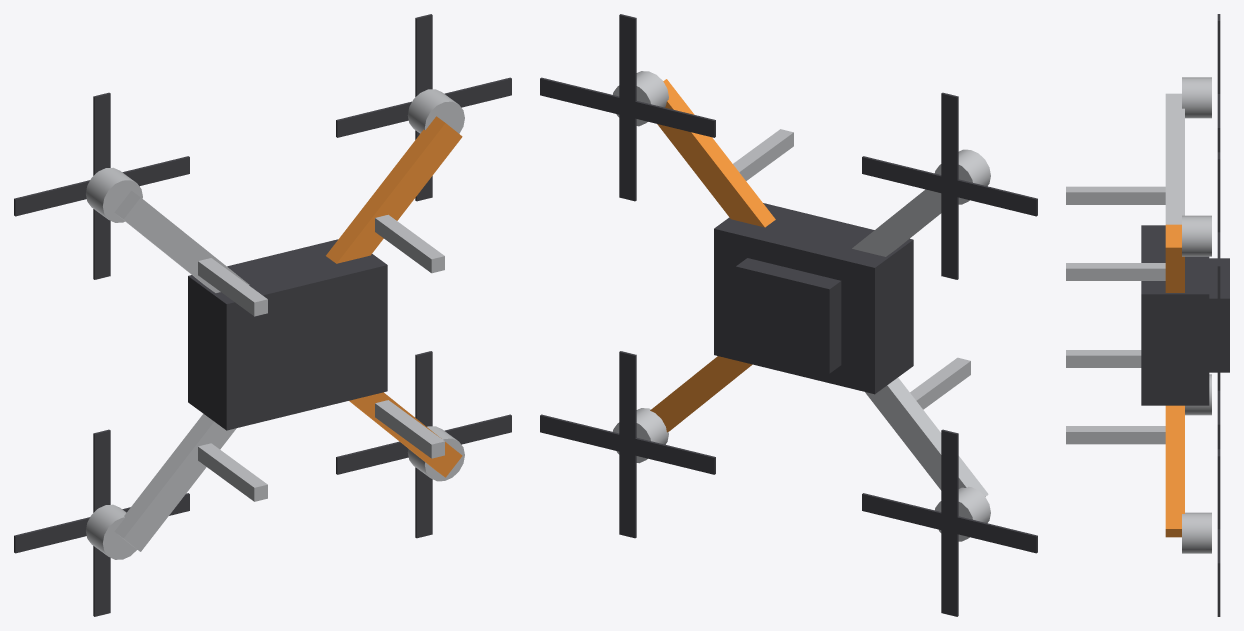
3 views of the same model, side by side, from view 1: azimuth 30°, elevation 25°; view 2: azimuth 150°, elevation 25°; view 3: azimuth 270°, elevation 25° (orthographic). The views are drawn at different scales.
Visible parts, largest first — view 1: body, frame, arms_front, rotor_2, rotor_4, rotor_3, rotor_1; view 2: body, frame, arms_front, rotor_2, rotor_4, rotor_1, rotor_3; view 3: frame, body, arms_front, rotor_1, rotor_4, rotor_2, rotor_3.
Boxes of the visible parts, left/top/right/bottom form: body: left=188, top=239, right=387, bottom=430; frame: left=86, top=89, right=464, bottom=559; arms_front: left=326, top=116, right=462, bottom=477; rotor_2: left=14, top=92, right=189, bottom=279; rotor_4: left=336, top=351, right=511, bottom=538; rotor_3: left=14, top=429, right=189, bottom=616; rotor_1: left=336, top=14, right=511, bottom=201; body: left=714, top=203, right=913, bottom=394; frame: left=613, top=71, right=990, bottom=541; arms_front: left=650, top=79, right=775, bottom=432; rotor_2: left=862, top=92, right=1037, bottom=279; rotor_4: left=540, top=351, right=715, bottom=538; rotor_1: left=540, top=14, right=715, bottom=201; rotor_3: left=862, top=429, right=1037, bottom=616; frame: left=1066, top=77, right=1211, bottom=553; body: left=1141, top=225, right=1229, bottom=405; arms_front: left=1165, top=224, right=1184, bottom=537; rotor_1: left=1217, top=152, right=1220, bottom=319; rotor_4: left=1217, top=449, right=1220, bottom=616; rotor_2: left=1217, top=14, right=1220, bottom=152; rotor_3: left=1217, top=372, right=1220, bottom=449.
Size of the model in its own units: 0.37 by 0.37 by 0.12.
